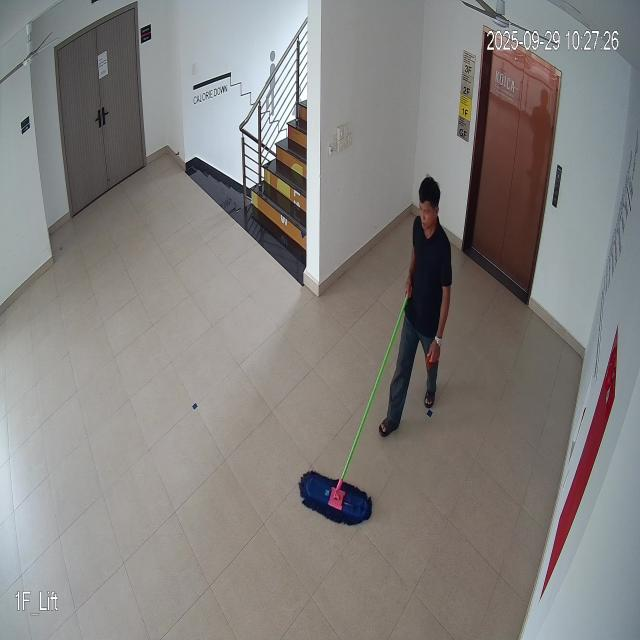face: (418, 177, 441, 232)
